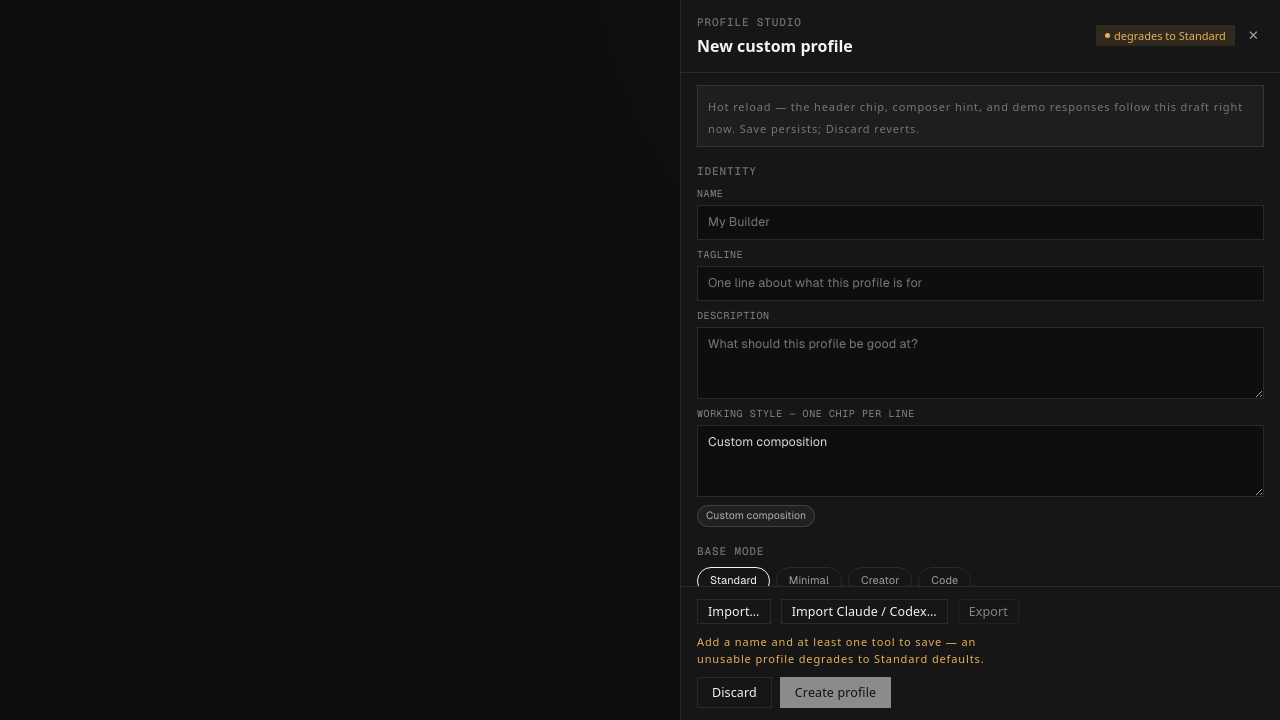
Scenario: Profile Studio import › shows a clear error for an unusable import file (no tools)
This screenshot has width=1280, height=720.
Expected: the element with test id "profile-studio" is shown, [680,0,1279,719]
Click the button with test id "studio-import".
click(734, 612)  # box [697,599,771,624]
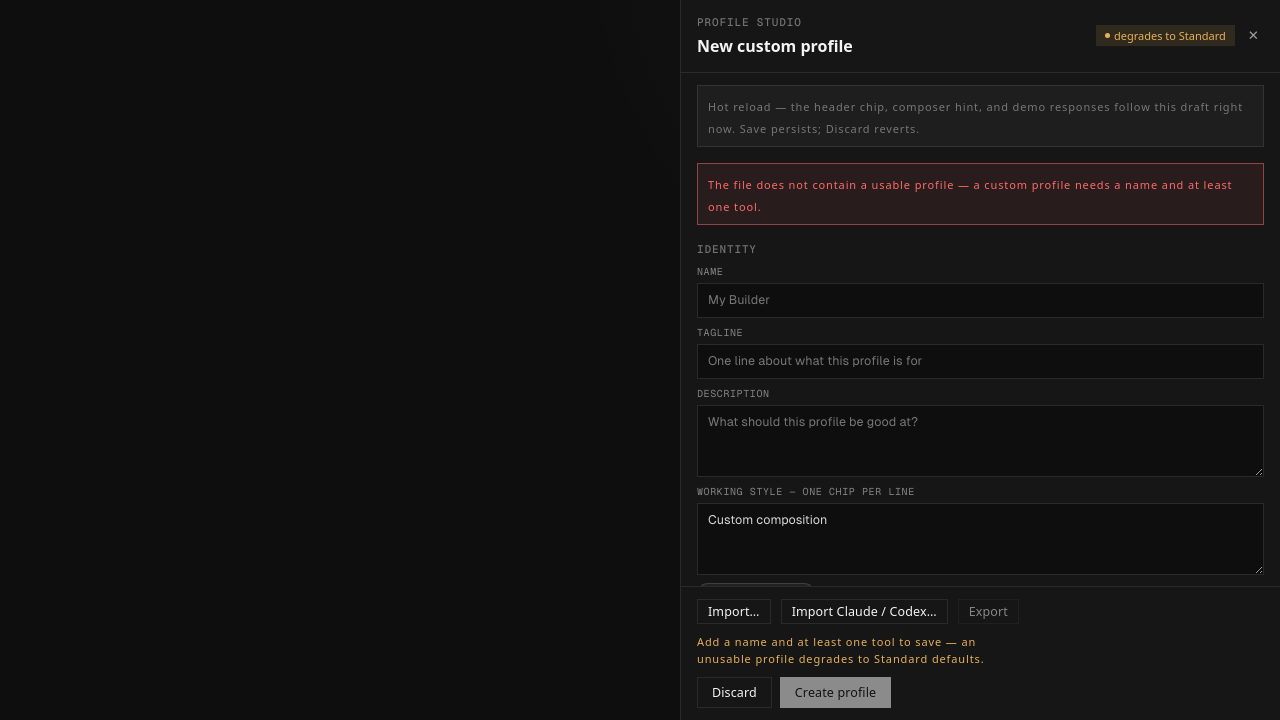
Expected: the message with test id "studio-port-notice" shows "usable", [708,176,1232,214]
